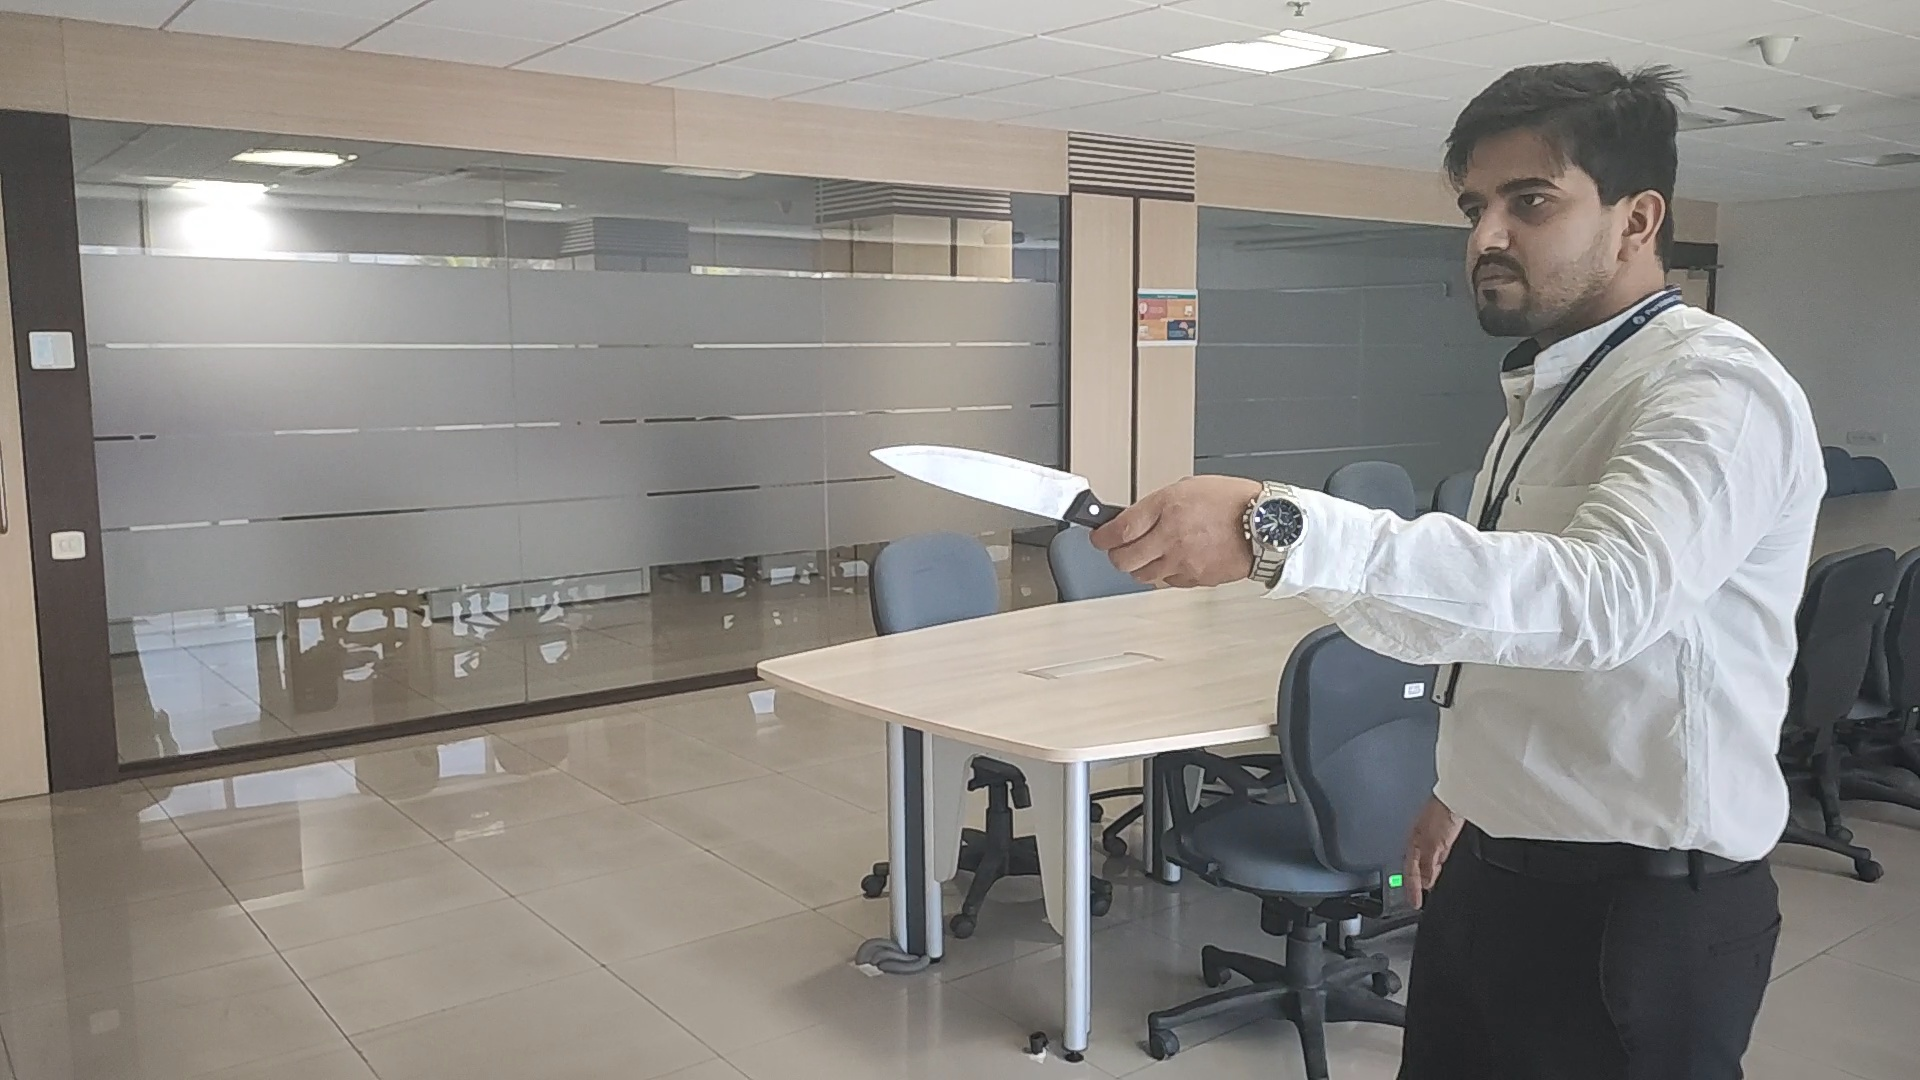knife: (870, 442, 1117, 526)
